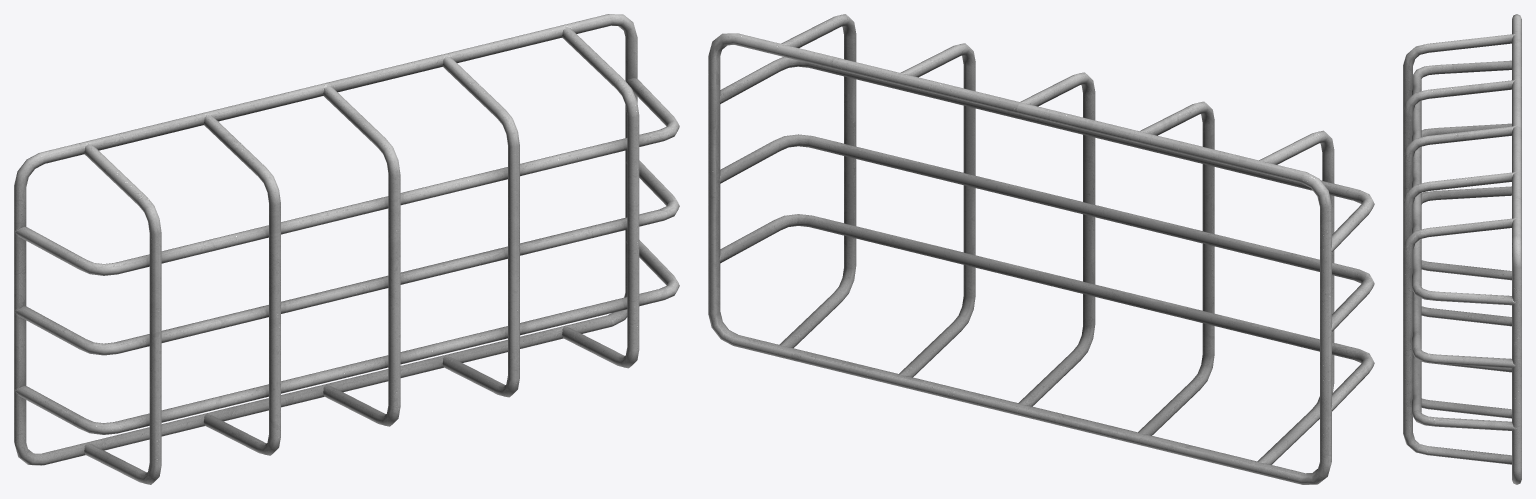
Rendered from SignCage.FBX.
3 renders of one model, left to right at view 1: azimuth 30°, elevation 25°; view 2: azimuth 150°, elevation 25°; view 3: azimuth 270°, elevation 25°, orthographic. The views are drawn at different scales.
Parts seen in each view (by area): view 1: SignCage; view 2: SignCage; view 3: SignCage.
Boxes of the visible parts, left/top/right/bottom form: SignCage: left=14, top=14, right=679, bottom=484; SignCage: left=708, top=14, right=1374, bottom=484; SignCage: left=1403, top=14, right=1521, bottom=484.
Size of the model in its own units: 57.32 by 27.51 by 11.97.
